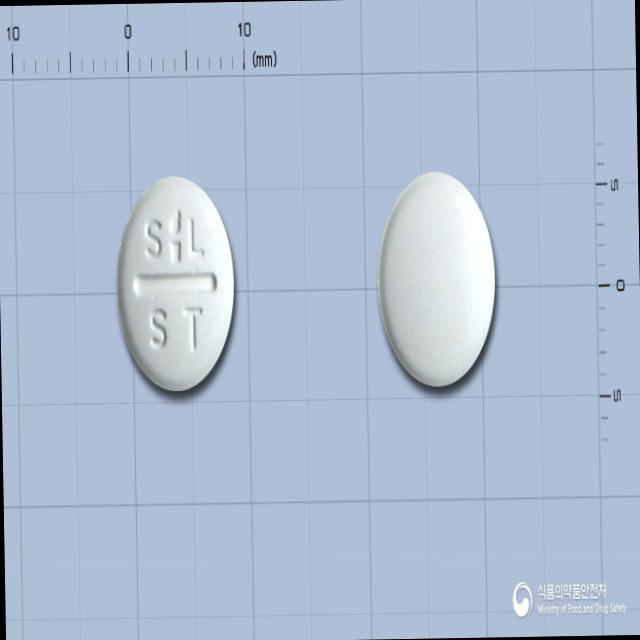Septrin: (115, 174, 238, 392)
